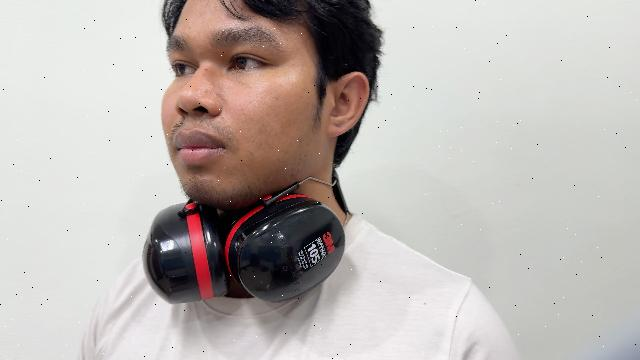headphones: (143, 181, 344, 303)
left_ear: (327, 72, 369, 137)
